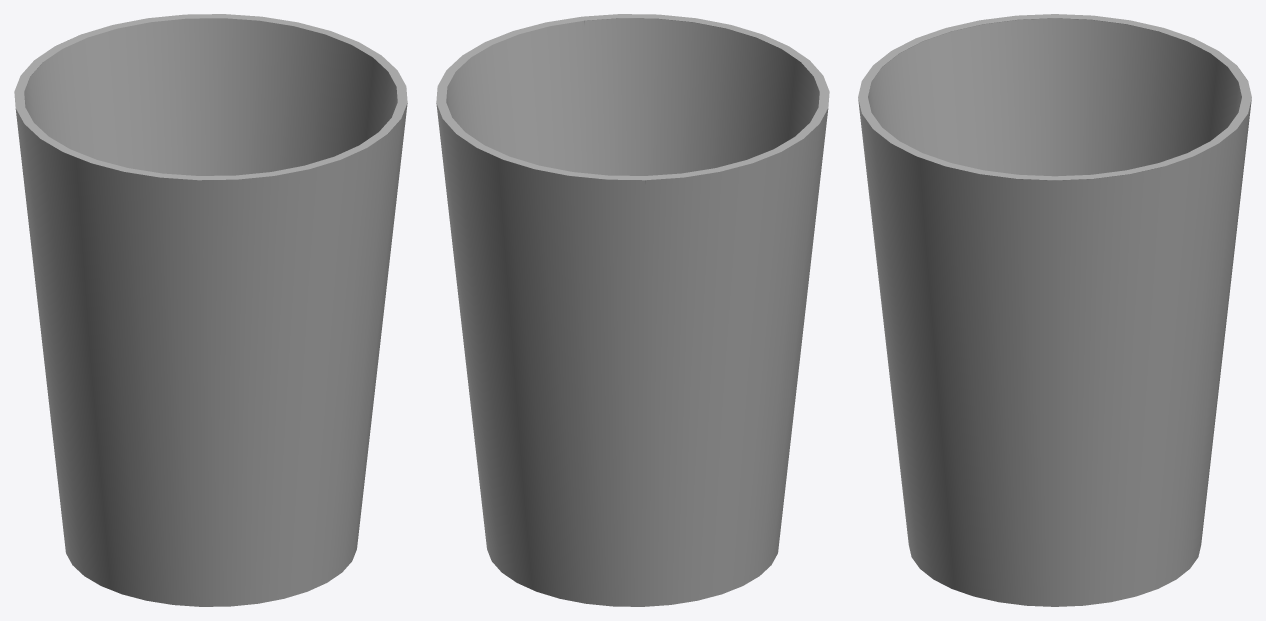
Rendered from KitchenTrashCan.fbx.
The picture shows the model from 3 angles, left to right: view 1: azimuth 30°, elevation 25°; view 2: azimuth 150°, elevation 25°; view 3: azimuth 270°, elevation 25°; orthographic projection.
Visible parts, largest first — view 1: KitchenTrashCan_Baked; view 2: KitchenTrashCan_Baked; view 3: KitchenTrashCan_Baked.
Boxes of the visible parts, <box> form: KitchenTrashCan_Baked: <box>14,14,407,606</box>; KitchenTrashCan_Baked: <box>436,14,829,606</box>; KitchenTrashCan_Baked: <box>858,14,1251,606</box>.
Bounding box in the file's own units: 45.95 × 57.65 × 45.95.
1 material, 1 textured.
